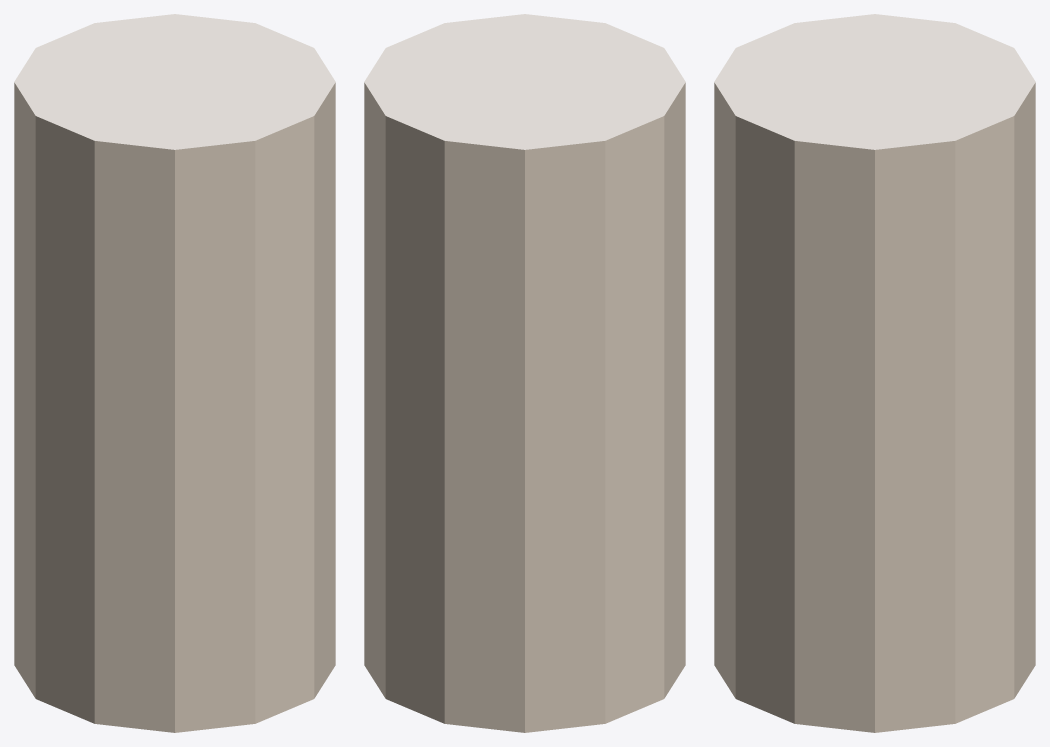
The picture shows the model from 3 angles, left to right: view 1: azimuth 30°, elevation 25°; view 2: azimuth 150°, elevation 25°; view 3: azimuth 270°, elevation 25°; orthographic projection.
Visible parts, largest first — view 1: object3; view 2: object3; view 3: object3.
Boxes of the visible parts, left/top/right/bottom form: object3: left=14, top=14, right=335, bottom=732; object3: left=364, top=14, right=685, bottom=732; object3: left=714, top=14, right=1035, bottom=732.
Size of the model in its own units: 1 by 2 by 1.
